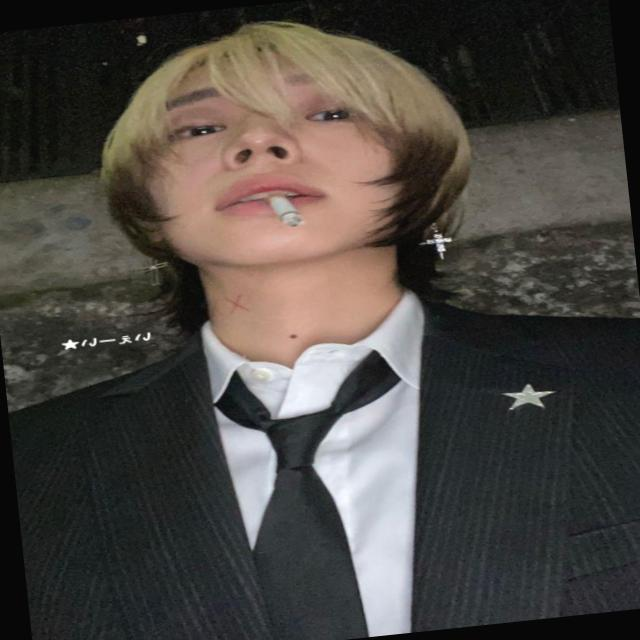cigarette: (255, 178, 332, 238)
